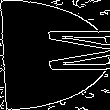M_W: (5, 32, 105, 78)
